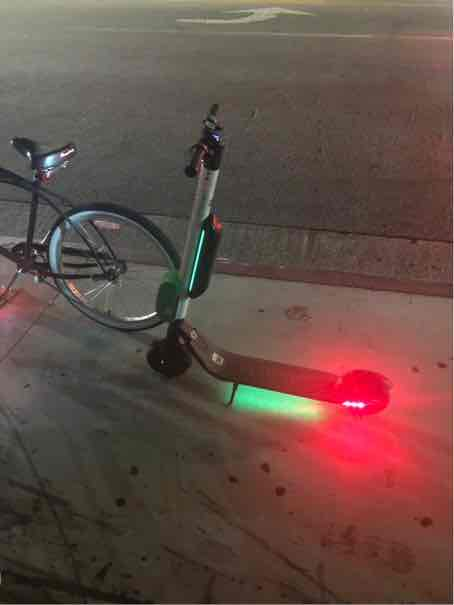scooter: (149, 99, 401, 432)
